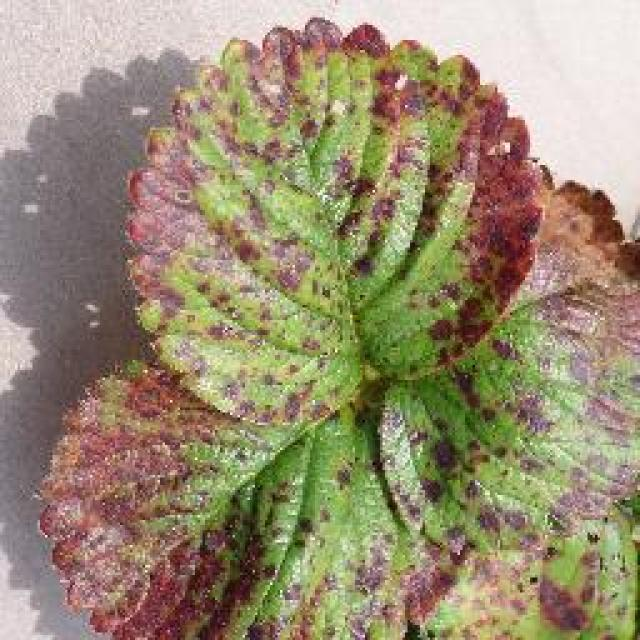Strawberry leaf scorch: (160, 57, 597, 598)
